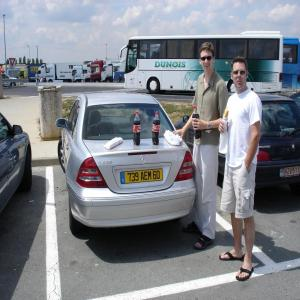Vehicle-registration-plate: (122, 170, 163, 185), (285, 168, 300, 179)
